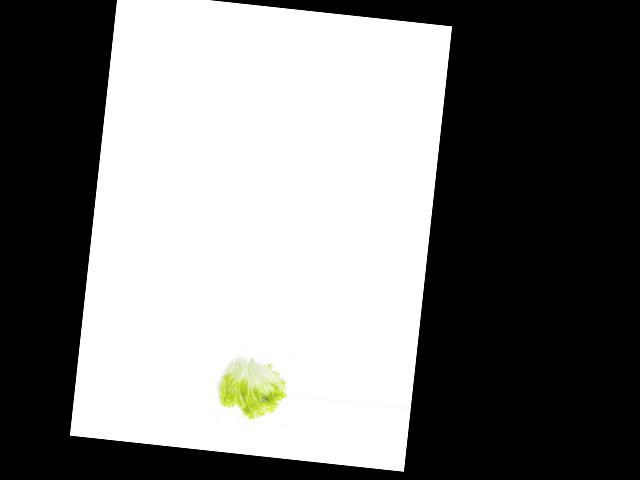lettuce: (210, 353, 292, 420)
